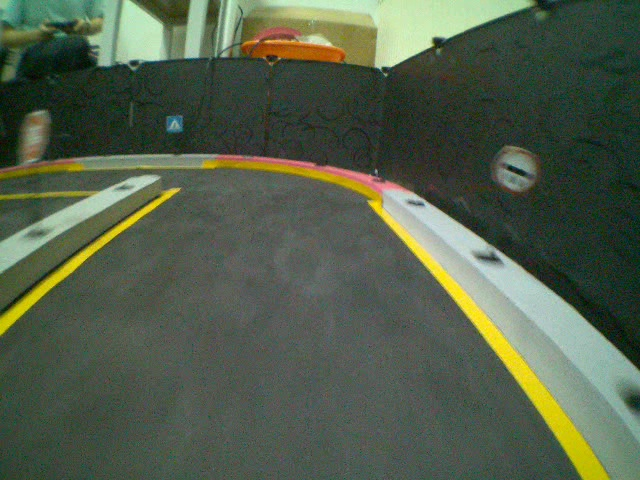Check: (494, 144, 542, 195)
crossing: (163, 114, 185, 134)
